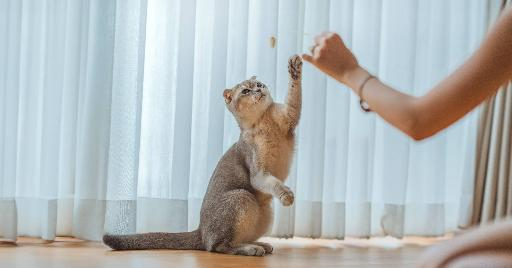cat_sitting: (103, 55, 303, 256)
